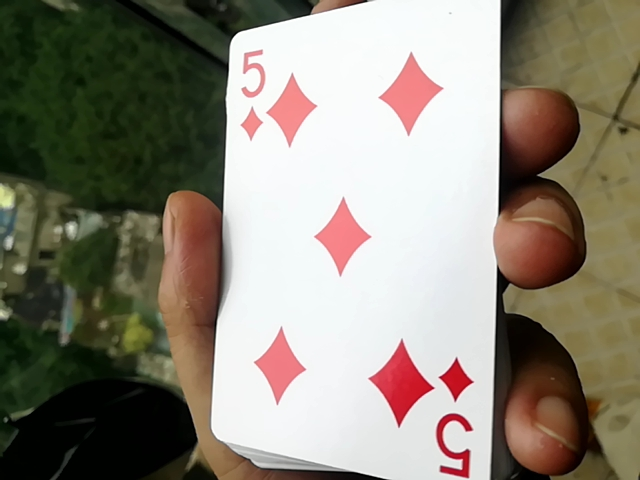fk 5: (197, 0, 496, 480)
